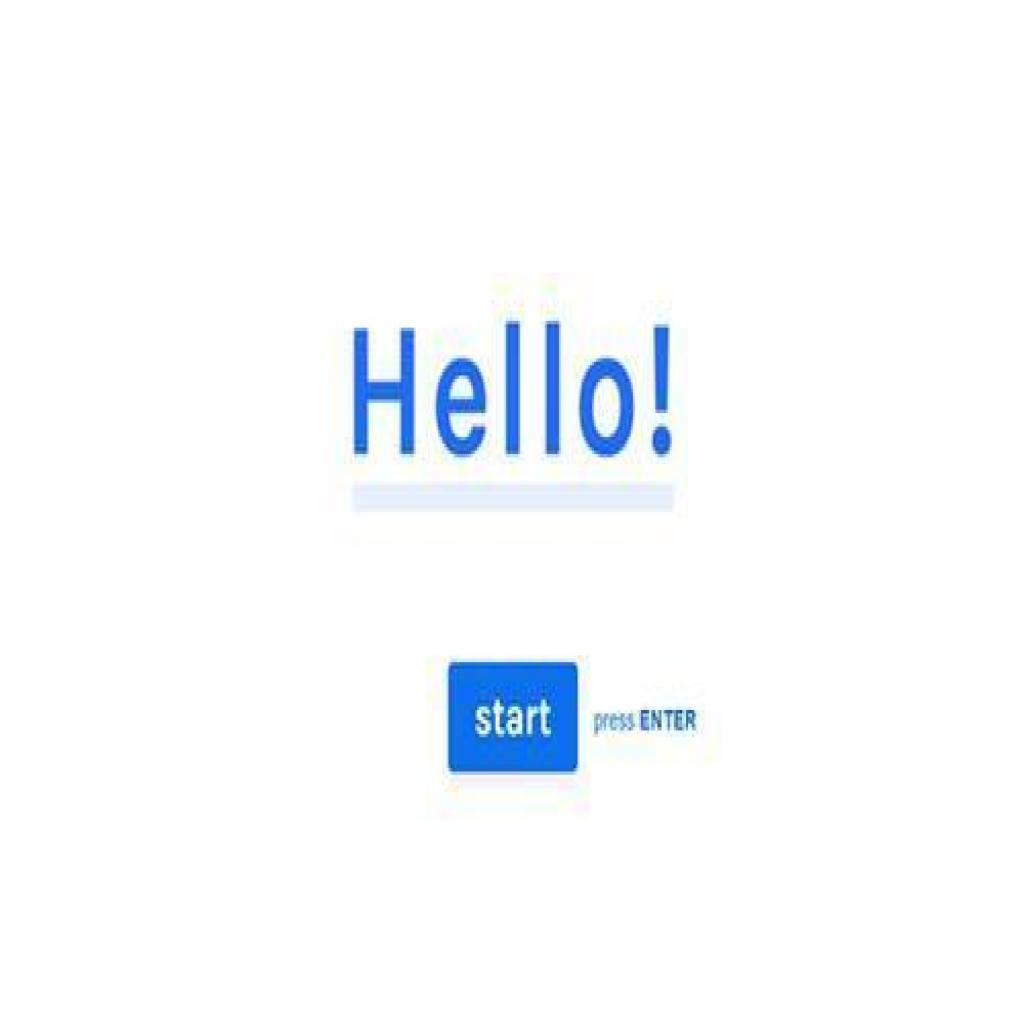button: (446, 662, 580, 772)
label: (350, 317, 674, 461), (590, 707, 700, 737)
